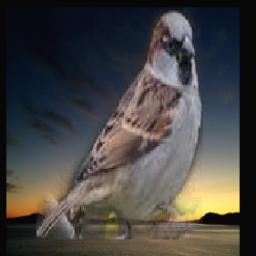Sparrow: (36, 11, 202, 240)
